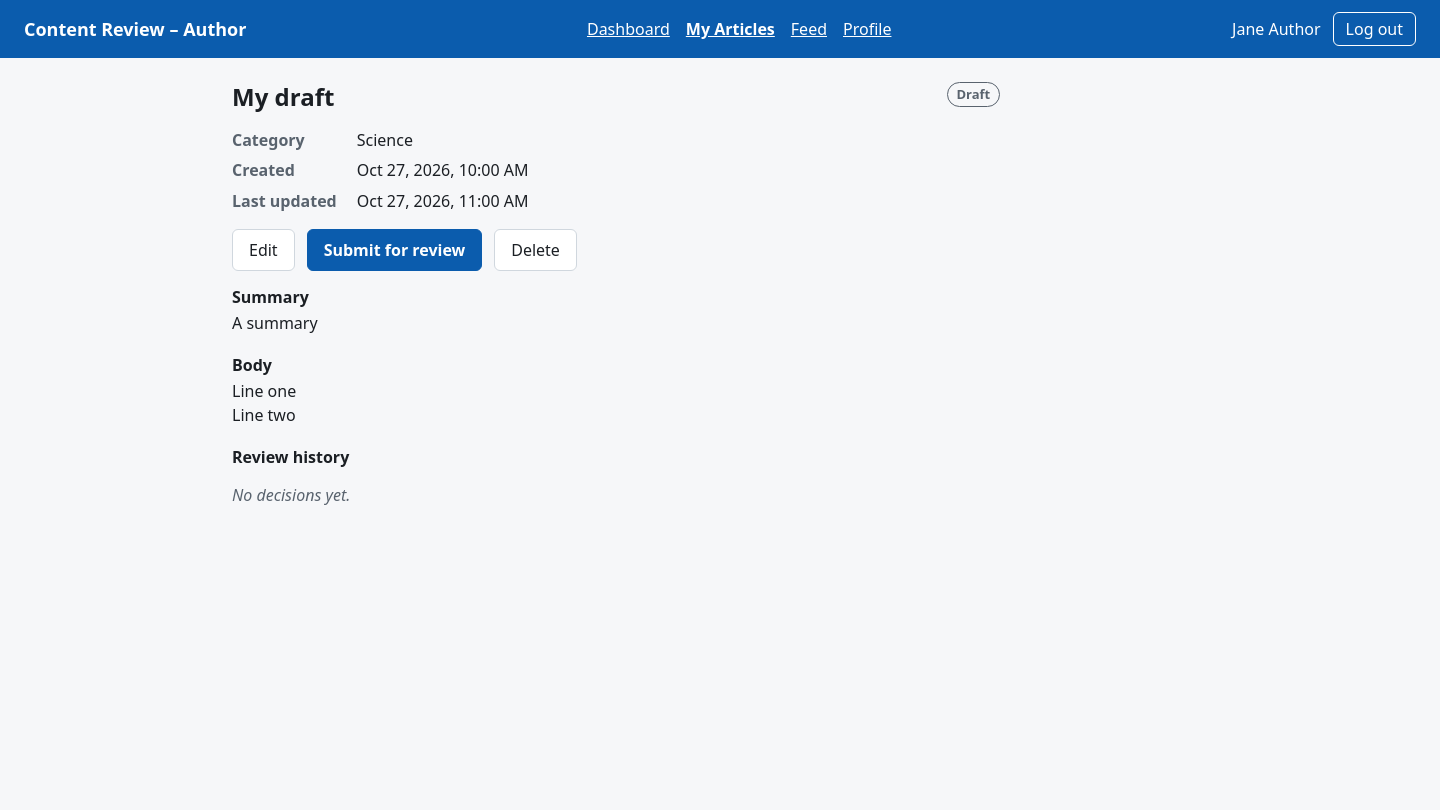
Test: deleting a draft › deletes with the version and returns to My Articles with a message
The width and height of the screenshot is (1440, 810).
Click the button with test id "article-delete". click: (536, 250)
box: x1=494 y1=229 x2=577 y2=271
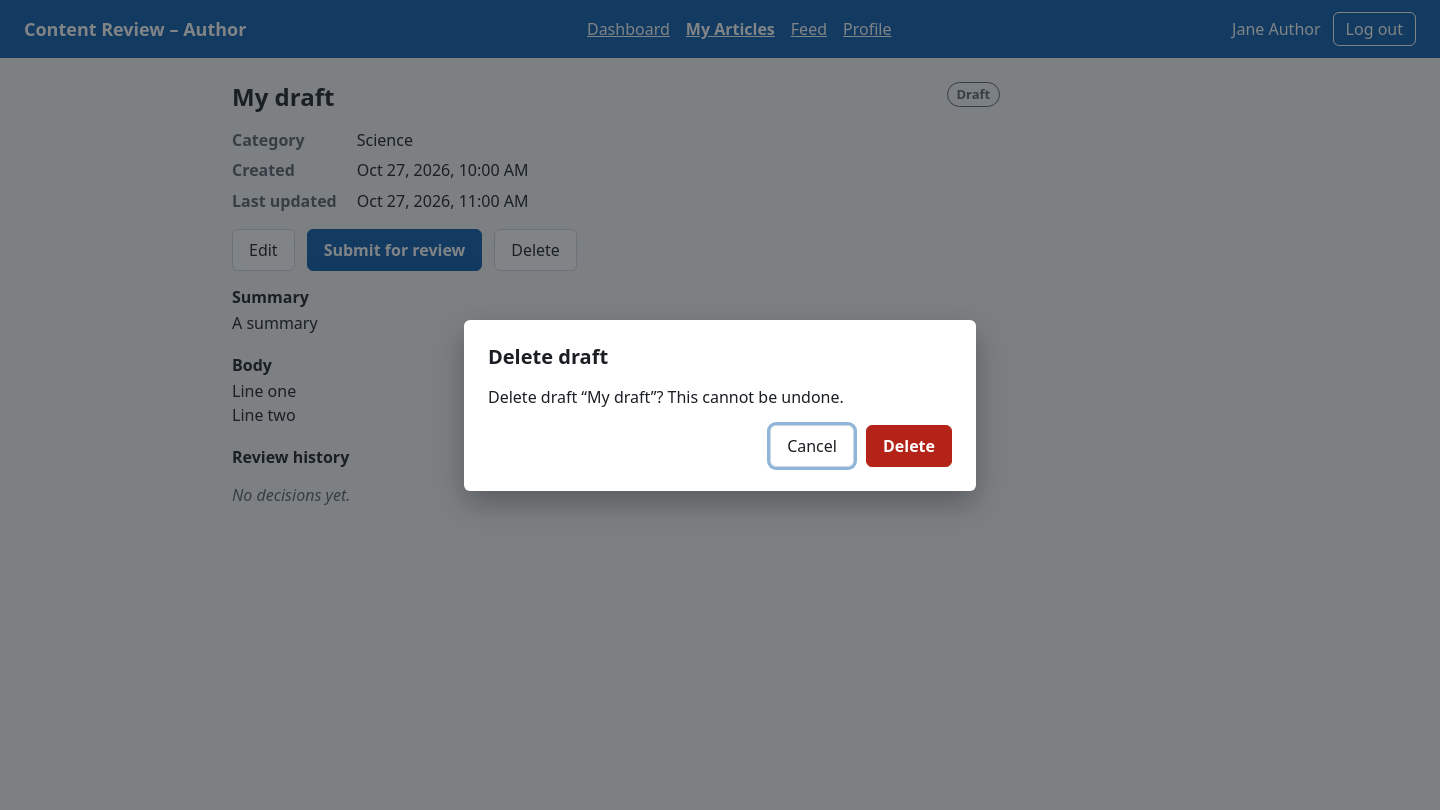
Click the button with test id "article-delete-confirm". click: (909, 446)
box: x1=866 y1=424 x2=952 y2=466
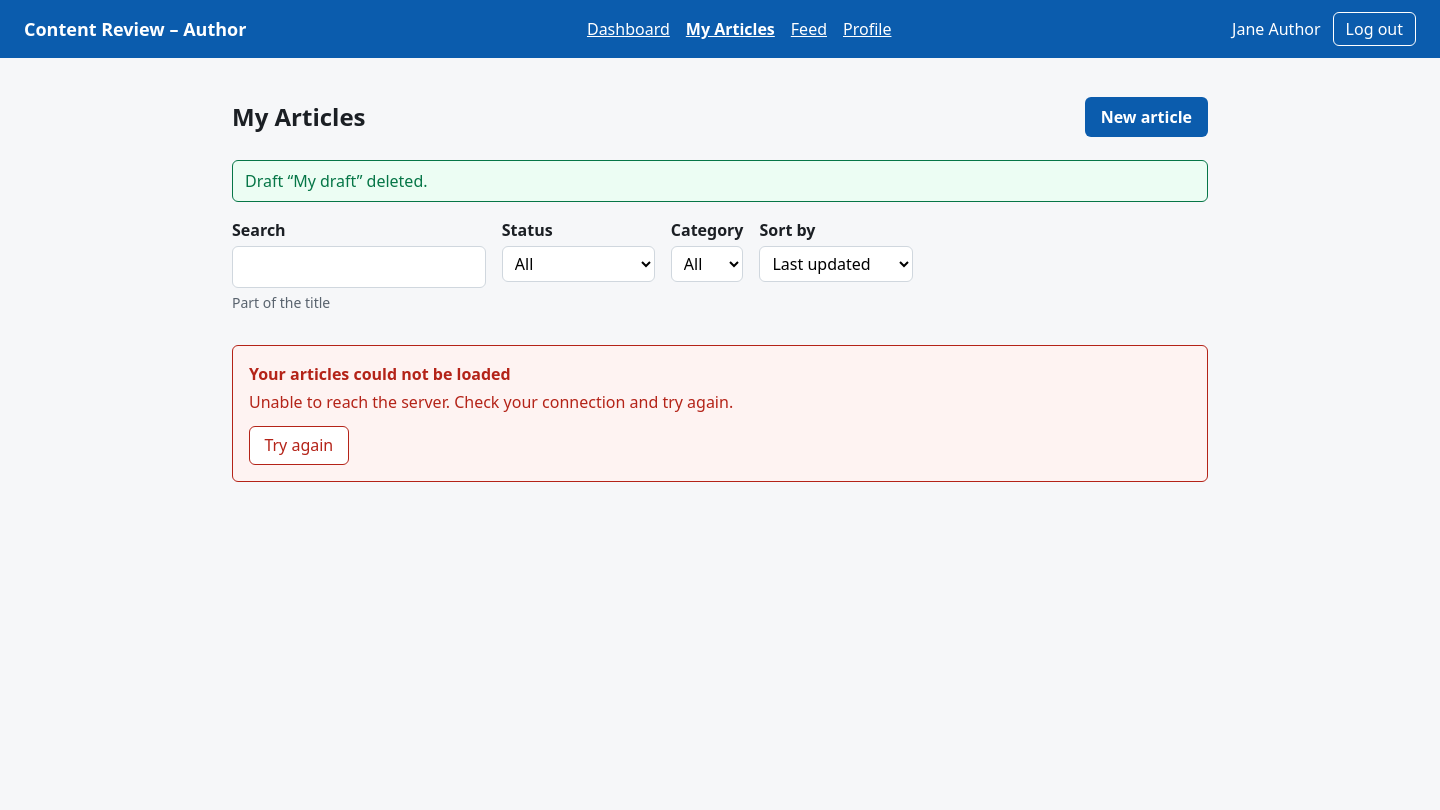
Expected: the message with test id "flash-message" reads "Draft “My draft” deleted.", x1=245 y1=170 x2=428 y2=192
